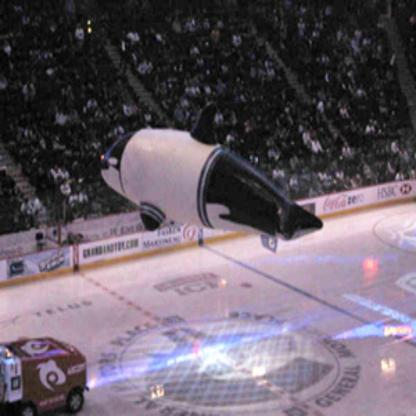Airship: (95, 109, 324, 251)
